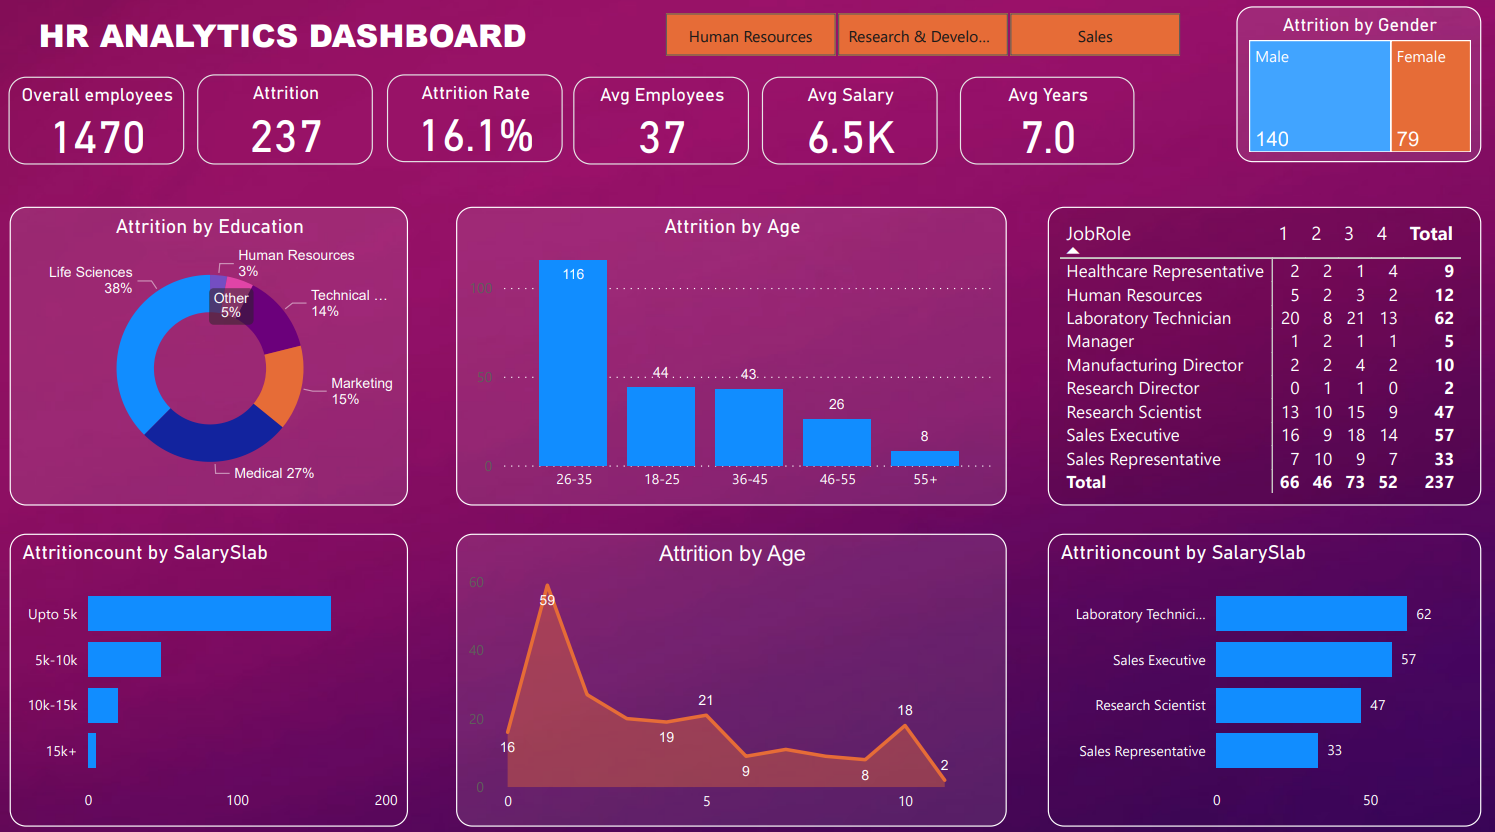

What the dashboard file says about the page in this screenshot:
{"tool":"powerbi","page":{"name":"Page 1","canvas":[1280,720],"ordinal":0},"visuals":[{"type":"card","title":"Overall employees","fields":{"Values":["CountNonNull(HR_Analytics.EmployeeCount)"]},"box":[8.2,72.7,149.6,75.5],"z":14500},{"type":"card","title":"Attrition","fields":{"Values":["Sum(HR_Analytics.Attritioncount)"]},"box":[168.8,71.2,150,76.2],"z":15000},{"type":"card","title":"Attrition Rate","fields":{"Values":["HR_Analytics.AttritionRate"]},"box":[331.2,71.2,150,75],"z":15500},{"type":"card","title":"Avg Employees","fields":{"Values":["Avg(HR_Analytics.Age)"]},"box":[490,72.5,150,75],"z":16000},{"type":"card","title":"Avg Salary","fields":{"Values":["Avg(HR_Analytics.MonthlyIncome)"]},"box":[651.2,72.5,150,75],"z":16500},{"type":"card","title":"Avg Years","fields":{"Values":["Avg(HR_Analytics.YearsAtCompany)"]},"box":[820,72.5,148.8,75],"z":17000},{"type":"donutChart","title":"Attrition by Education","fields":{"Y":["Sum(HR_Analytics.Attritioncount)"],"Category":["HR_Analytics.EducationField"]},"box":[8.8,183.8,340,255],"z":17500},{"type":"columnChart","title":"Attrition by Age","fields":{"Category":["HR_Analytics.AgeGroup"],"Y":["Sum(HR_Analytics.Attritioncount)"]},"box":[390,183.8,470,255],"z":18000},{"type":"pivotTable","title":"Attrition by Education","fields":{"Rows":["HR_Analytics.JobRole"],"Columns":["HR_Analytics.JobSatisfaction"],"Values":["Sum(HR_Analytics.Attritioncount)"]},"box":[895,183.8,370,255],"z":18500},{"type":"barChart","title":"Attritioncount by SalarySlab","fields":{"Category":["HR_Analytics.SalarySlab"],"Y":["Sum(HR_Analytics.Attritioncount)"]},"box":[8.8,462.5,340,250],"z":19000},{"type":"barChart","title":"Attritioncount by SalarySlab","fields":{"Y":["Sum(HR_Analytics.Attritioncount)"],"Category":["HR_Analytics.JobRole"]},"box":[895,462.5,370,250],"z":19500},{"type":"areaChart","title":"Attrition by Age","fields":{"Category":["HR_Analytics.YearsAtCompany"],"Y":["Sum(HR_Analytics.Attritioncount)"]},"box":[390,462.5,470,250],"z":20000},{"type":"treemap","title":"Attrition by Gender","fields":{"Values":["Sum(HR_Analytics.Attritioncount)"],"Group":["HR_Analytics.Gender"]},"box":[1056.2,12.5,208.8,133.8],"z":20500},{"type":"textbox","box":[28.8,13.7,514.6,48],"z":21000},{"type":"slicer","fields":{"Values":["HR_Analytics.Department"]},"box":[543.4,12.3,488.5,49.4],"z":21500}]}

Visuals, with their boxes in screenshot pixels (x1, y1, x2, y2), scaled from the page's 1280x720 canvas onto the 1495x832 screenshot:
"Overall employees" card: 10:84:184:171
"Attrition" card: 197:82:372:170
"Attrition Rate" card: 387:82:562:169
"Avg Employees" card: 572:84:748:170
"Avg Salary" card: 761:84:936:170
"Avg Years" card: 958:84:1132:170
"Attrition by Education" donutChart: 10:212:407:507
"Attrition by Age" columnChart: 456:212:1004:507
"Attrition by Education" pivotTable: 1045:212:1477:507
"Attritioncount by SalarySlab" barChart: 10:534:407:823
"Attritioncount by SalarySlab" barChart: 1045:534:1477:823
"Attrition by Age" areaChart: 456:534:1004:823
"Attrition by Gender" treemap: 1234:14:1477:169
textbox: 34:16:635:71
slicer - HR_Analytics.Department: 635:14:1205:71
